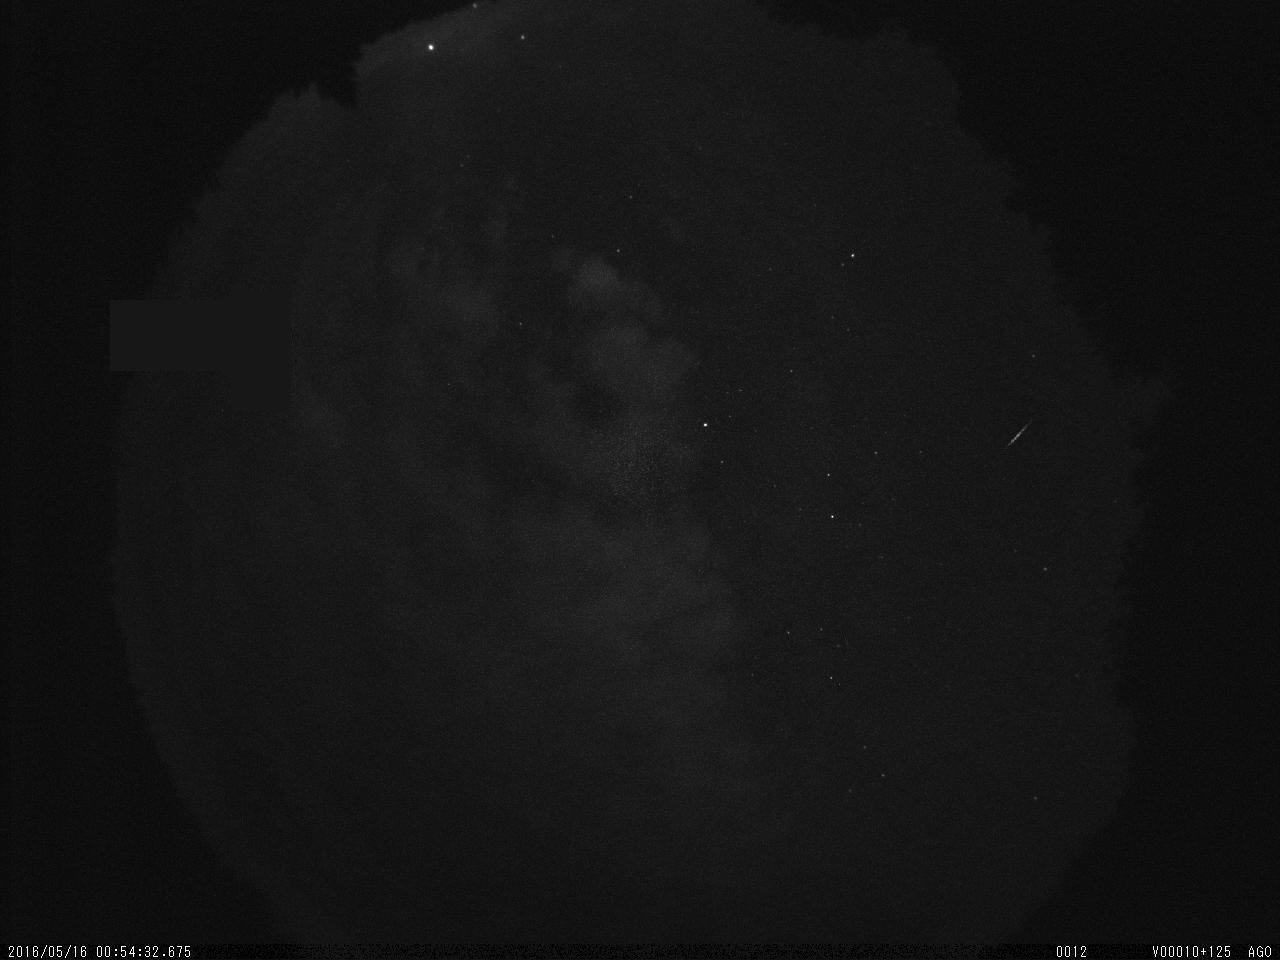Meteor: (1004, 416, 1033, 449)
